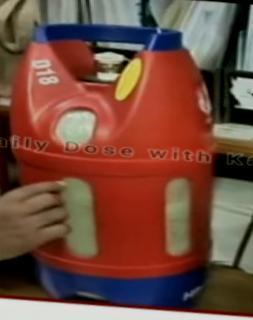cylinder: (1, 1, 253, 320)
